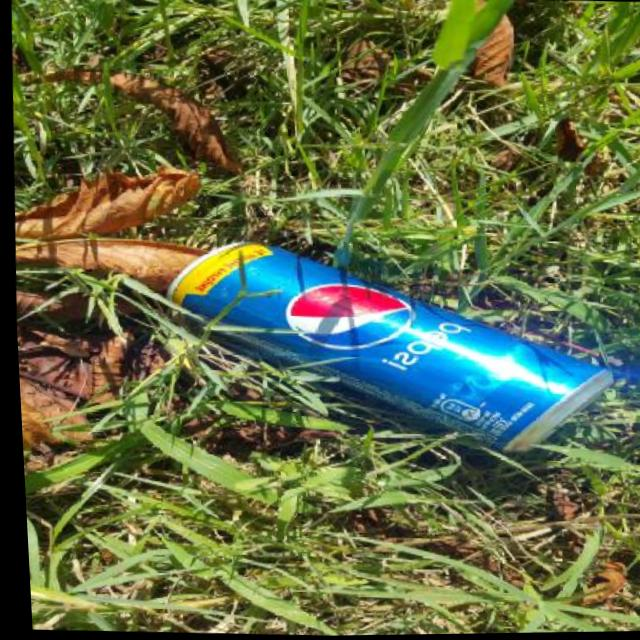metal: (189, 138, 432, 600)
